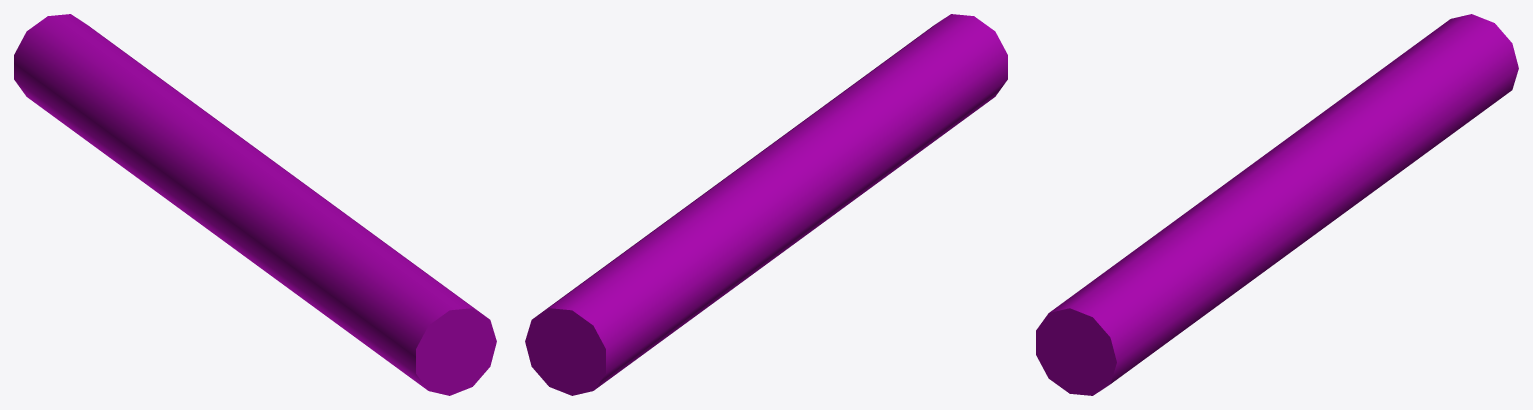
The model's file is Wire_Centre.FBX.
3 views of the same model, side by side, from view 1: azimuth 30°, elevation 25°; view 2: azimuth 150°, elevation 25°; view 3: azimuth 330°, elevation 25° (orthographic).
Parts seen in each view (by area): view 1: Wire; view 2: Wire; view 3: Wire.
Part boxes in pixels (<box>): Wire: <box>14,14,496,395</box>; Wire: <box>525,14,1007,395</box>; Wire: <box>1036,14,1518,395</box>.
Bounding box in the file's own units: 16.39 × 16.56 × 141.
